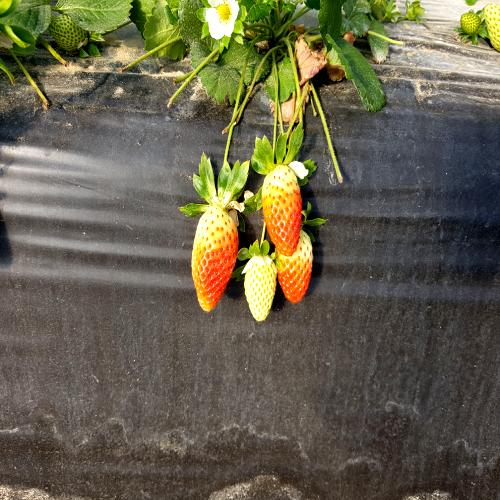partially-ripe: (180, 190, 239, 309), (265, 157, 304, 258), (279, 223, 319, 306)
